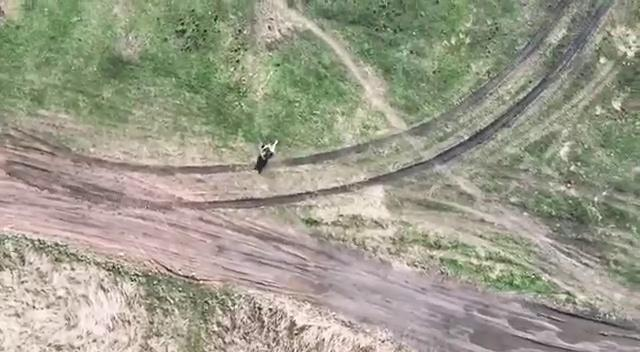person: (256, 140, 278, 160)
